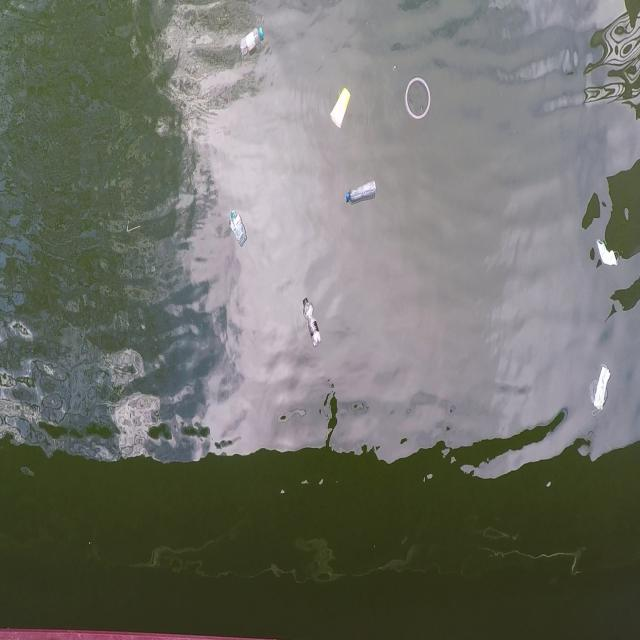Bouteille plastique: (300, 293, 324, 353), (236, 19, 267, 62), (344, 173, 380, 208), (228, 200, 250, 253)
Non plastique: (327, 82, 356, 131), (592, 233, 622, 277), (592, 358, 613, 420)
